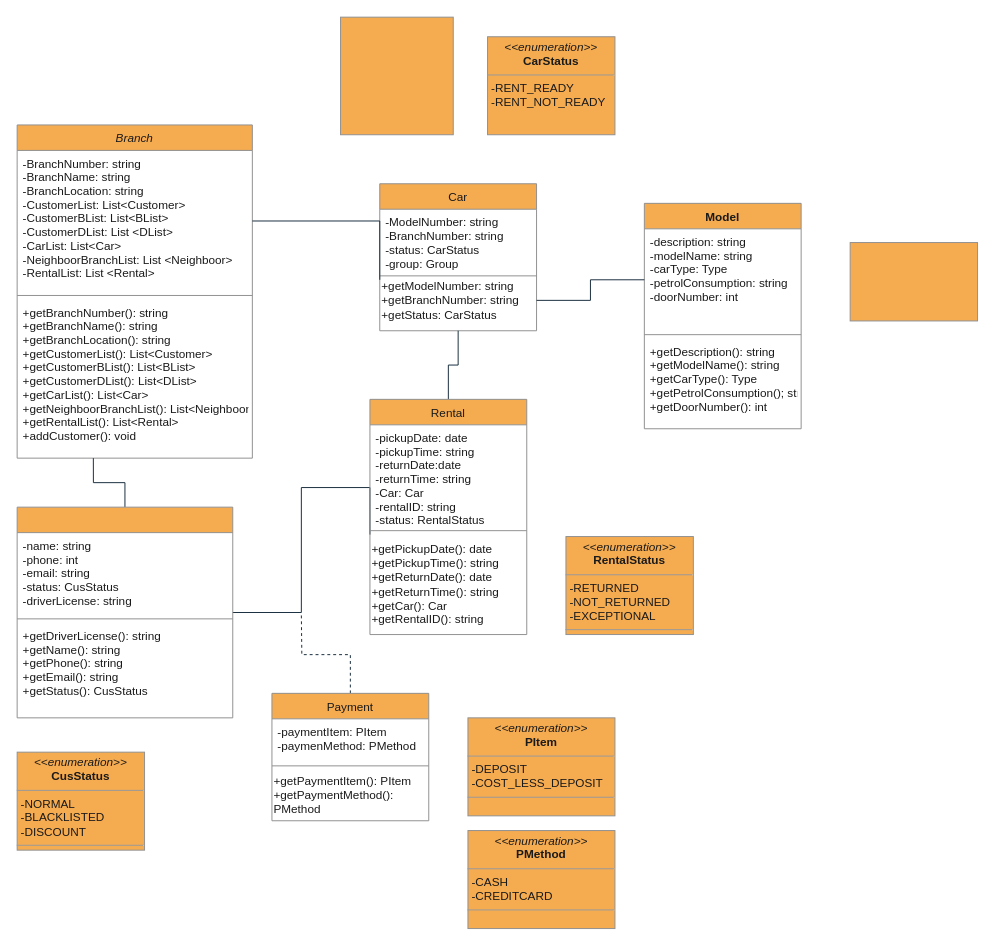
Some shapes in this 995 by 946 pixel diagram are drawn without their labels. The shapes that lost their labels are listed below. From the top down, each one's box as (x1, y1, x2, y2) in pixels, then its label:
(340, 16, 453, 135): <<enumeration>> Group -GroupA -GroupB -GroupC -GroupD -GroupD
(849, 242, 978, 321): <<enumeration>> Type -AUTOMATIC -MANUAL
(16, 506, 233, 718): Customer
